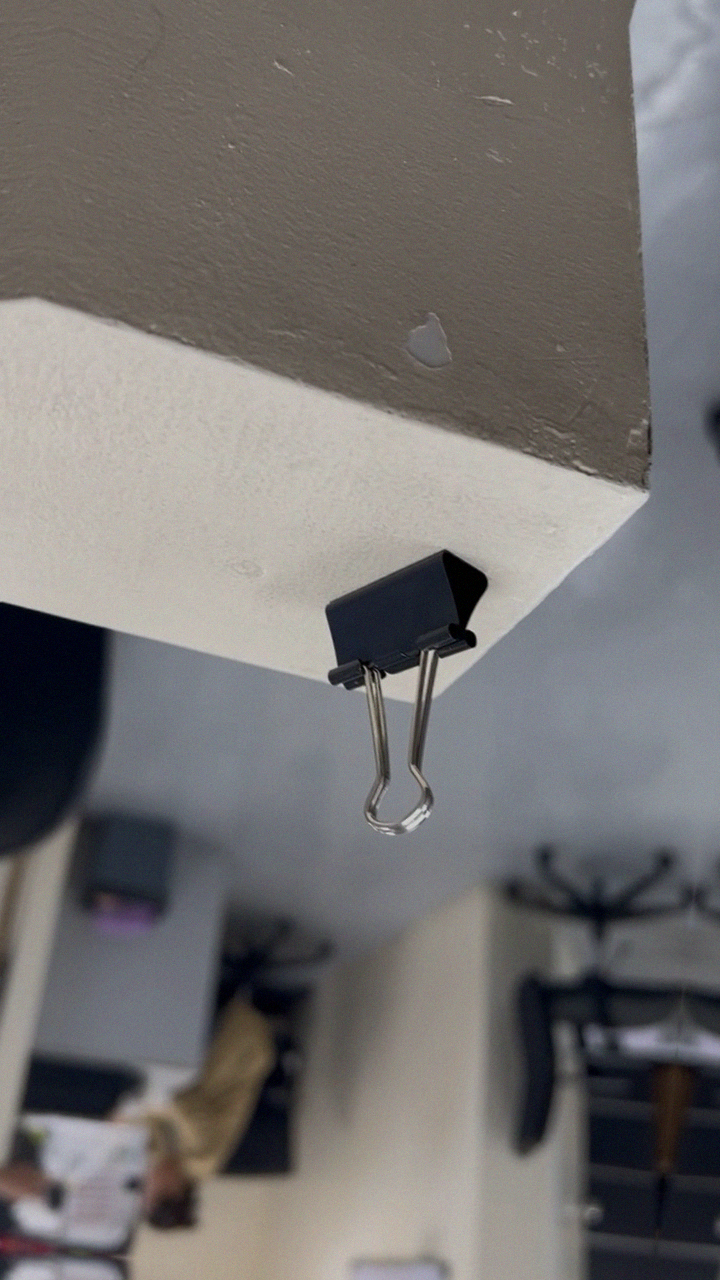kep_giay: (297, 533, 496, 846)
